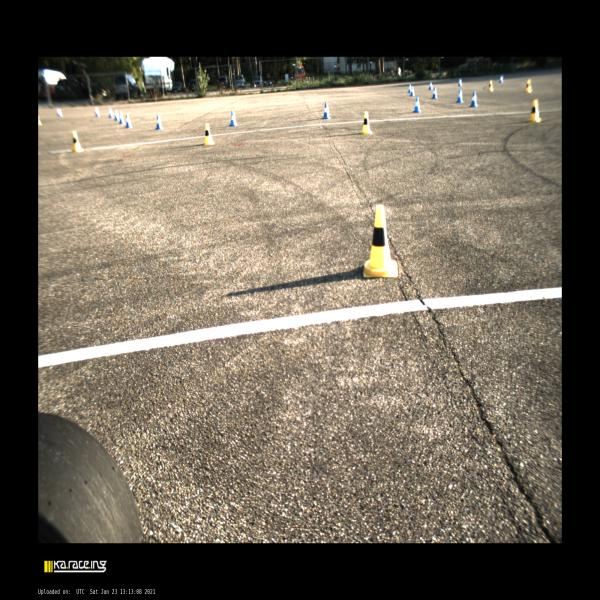blue_cone: (469, 91, 478, 107), (413, 97, 421, 113), (322, 102, 330, 118), (229, 110, 237, 126), (155, 114, 163, 130), (125, 114, 133, 128), (456, 89, 463, 103), (431, 87, 438, 99), (120, 112, 125, 124), (114, 109, 119, 120), (57, 108, 63, 117), (410, 86, 415, 96), (109, 108, 114, 118), (95, 107, 100, 117), (498, 75, 503, 83), (458, 78, 462, 86), (429, 82, 432, 89), (408, 84, 410, 93)
yellow_cone: (363, 205, 398, 277), (527, 99, 542, 122), (361, 111, 373, 134), (71, 131, 84, 152), (204, 123, 214, 145), (524, 79, 532, 93), (488, 80, 494, 92), (38, 115, 42, 125)
